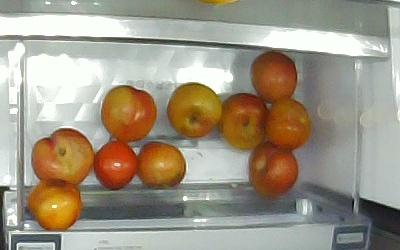prune: (32, 128, 93, 184), (101, 86, 157, 141), (167, 82, 222, 138), (27, 179, 81, 231), (248, 142, 298, 198), (220, 94, 269, 150), (265, 97, 312, 150), (250, 50, 297, 102), (138, 142, 186, 189), (94, 139, 139, 189)
